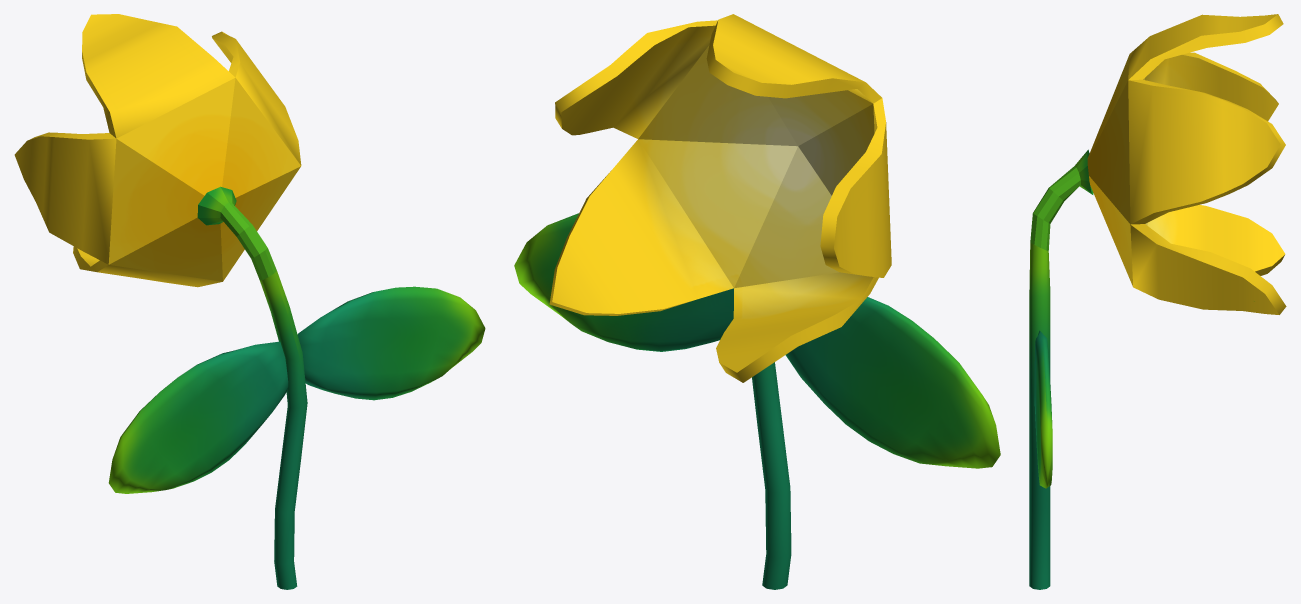
File: HappinessCropGrowing.FBX
3 renders of one model, left to right at view 1: azimuth 30°, elevation 25°; view 2: azimuth 150°, elevation 25°; view 3: azimuth 270°, elevation 25°, orthographic. The views are drawn at different scales.
Visible parts, largest first — view 1: knospe, blüte; view 2: knospe, blüte; view 3: knospe, blüte.
Part boxes in pixels (bbox=[...]): knospe: bbox=[14, 14, 301, 287]; blüte: bbox=[108, 186, 485, 589]; knospe: bbox=[549, 14, 891, 382]; blüte: bbox=[514, 213, 1000, 589]; knospe: bbox=[1087, 14, 1286, 314]; blüte: bbox=[1029, 149, 1093, 589].
Size of the model in its own units: 65.06 by 83.43 by 36.46.
